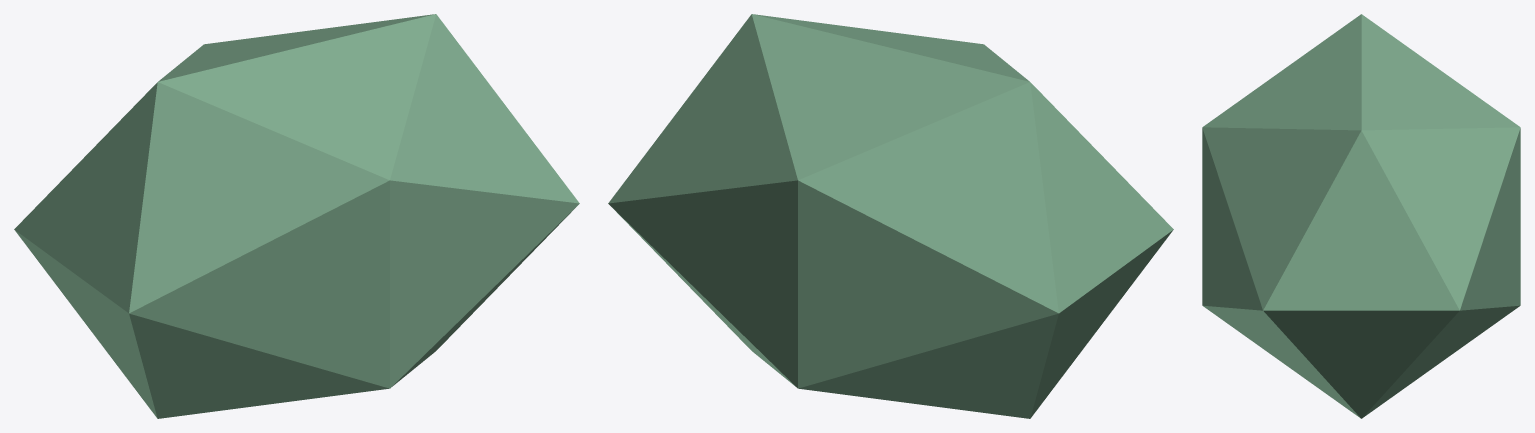
Rendered from bush-1.glb.
3 views of the same model, side by side, from view 1: azimuth 30°, elevation 25°; view 2: azimuth 150°, elevation 25°; view 3: azimuth 270°, elevation 25° (orthographic). The views are drawn at different scales.
Visible parts, largest first — view 1: BushMesh; view 2: BushMesh; view 3: BushMesh.
Part boxes in pixels (<box>): BushMesh: <box>14,14,579,418</box>; BushMesh: <box>608,14,1173,418</box>; BushMesh: <box>1202,14,1520,418</box>.
Size of the model in its own units: 1.43 by 1.02 by 1.02.
1 material, 1 textured.
